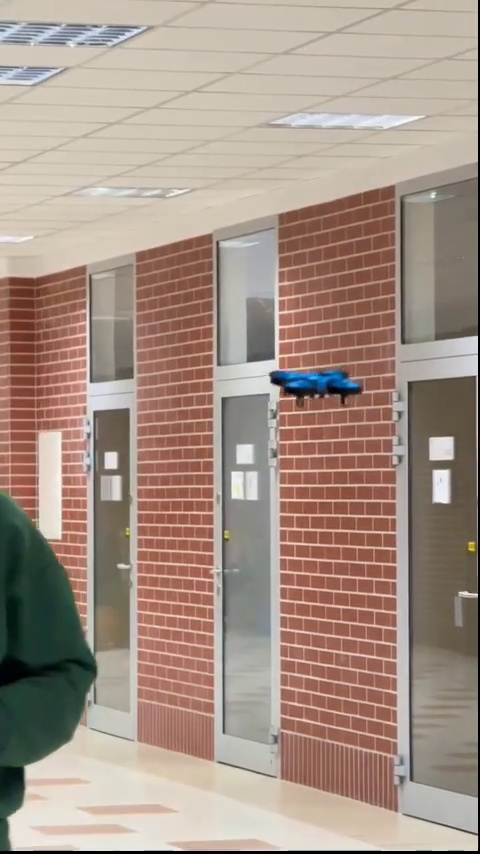drone: (273, 366, 357, 403)
